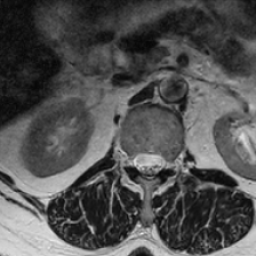CCS_normal: (143, 141, 153, 189)
LFS_normal: (164, 148, 173, 181)
LLS_normal: (153, 144, 164, 179)
RFS_normal: (124, 142, 135, 175)
RLS_normal: (133, 145, 143, 181)
